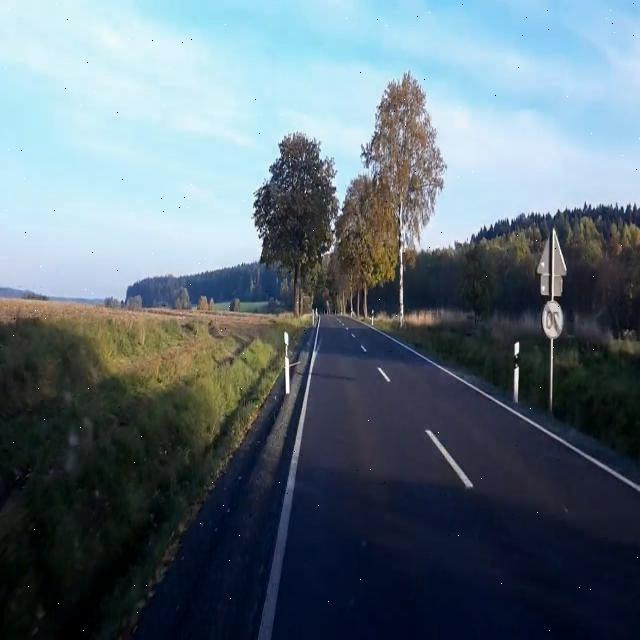lane: (361, 323, 640, 492), (258, 319, 319, 640), (426, 429, 474, 489)
road: (134, 315, 640, 639)
